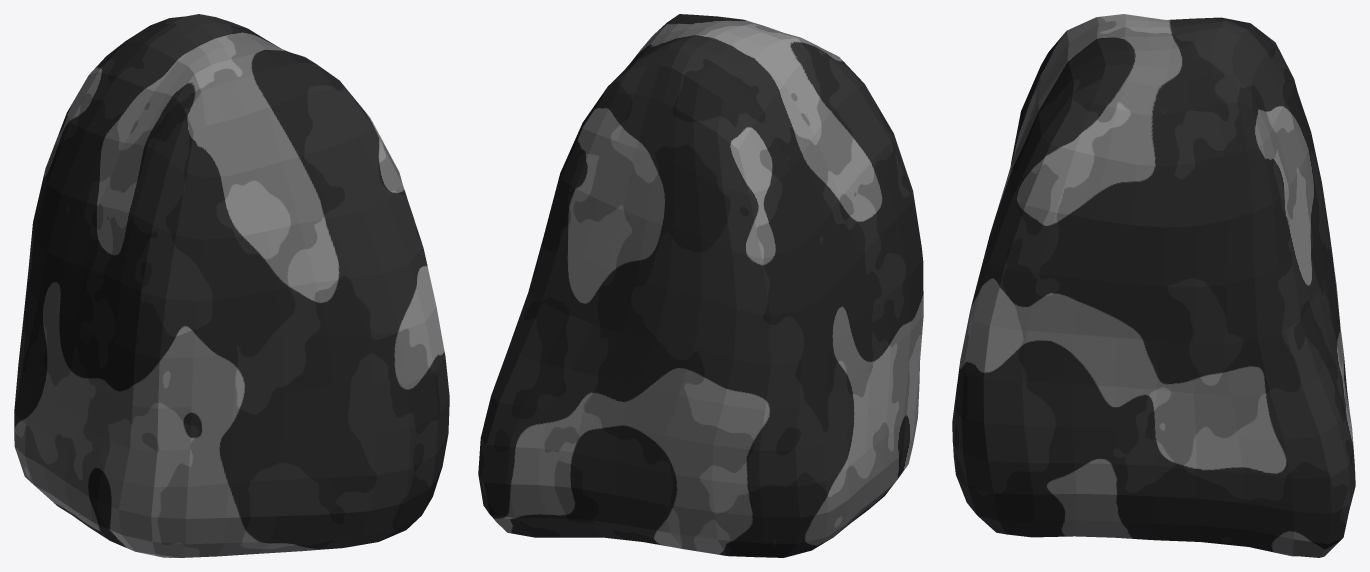
File: Rock3.fbx
3 views of the same model, side by side, from view 1: azimuth 30°, elevation 25°; view 2: azimuth 150°, elevation 25°; view 3: azimuth 270°, elevation 25° (orthographic).
Visible parts, largest first — view 1: Cube.002; view 2: Cube.002; view 3: Cube.002.
Part boxes in pixels (left/top/right/bottom): Cube.002: left=14, top=14, right=449, bottom=557; Cube.002: left=478, top=14, right=923, bottom=557; Cube.002: left=952, top=14, right=1355, bottom=557.
Bounding box in the file's own units: 430 × 624 × 476.
1 material, 1 textured.
